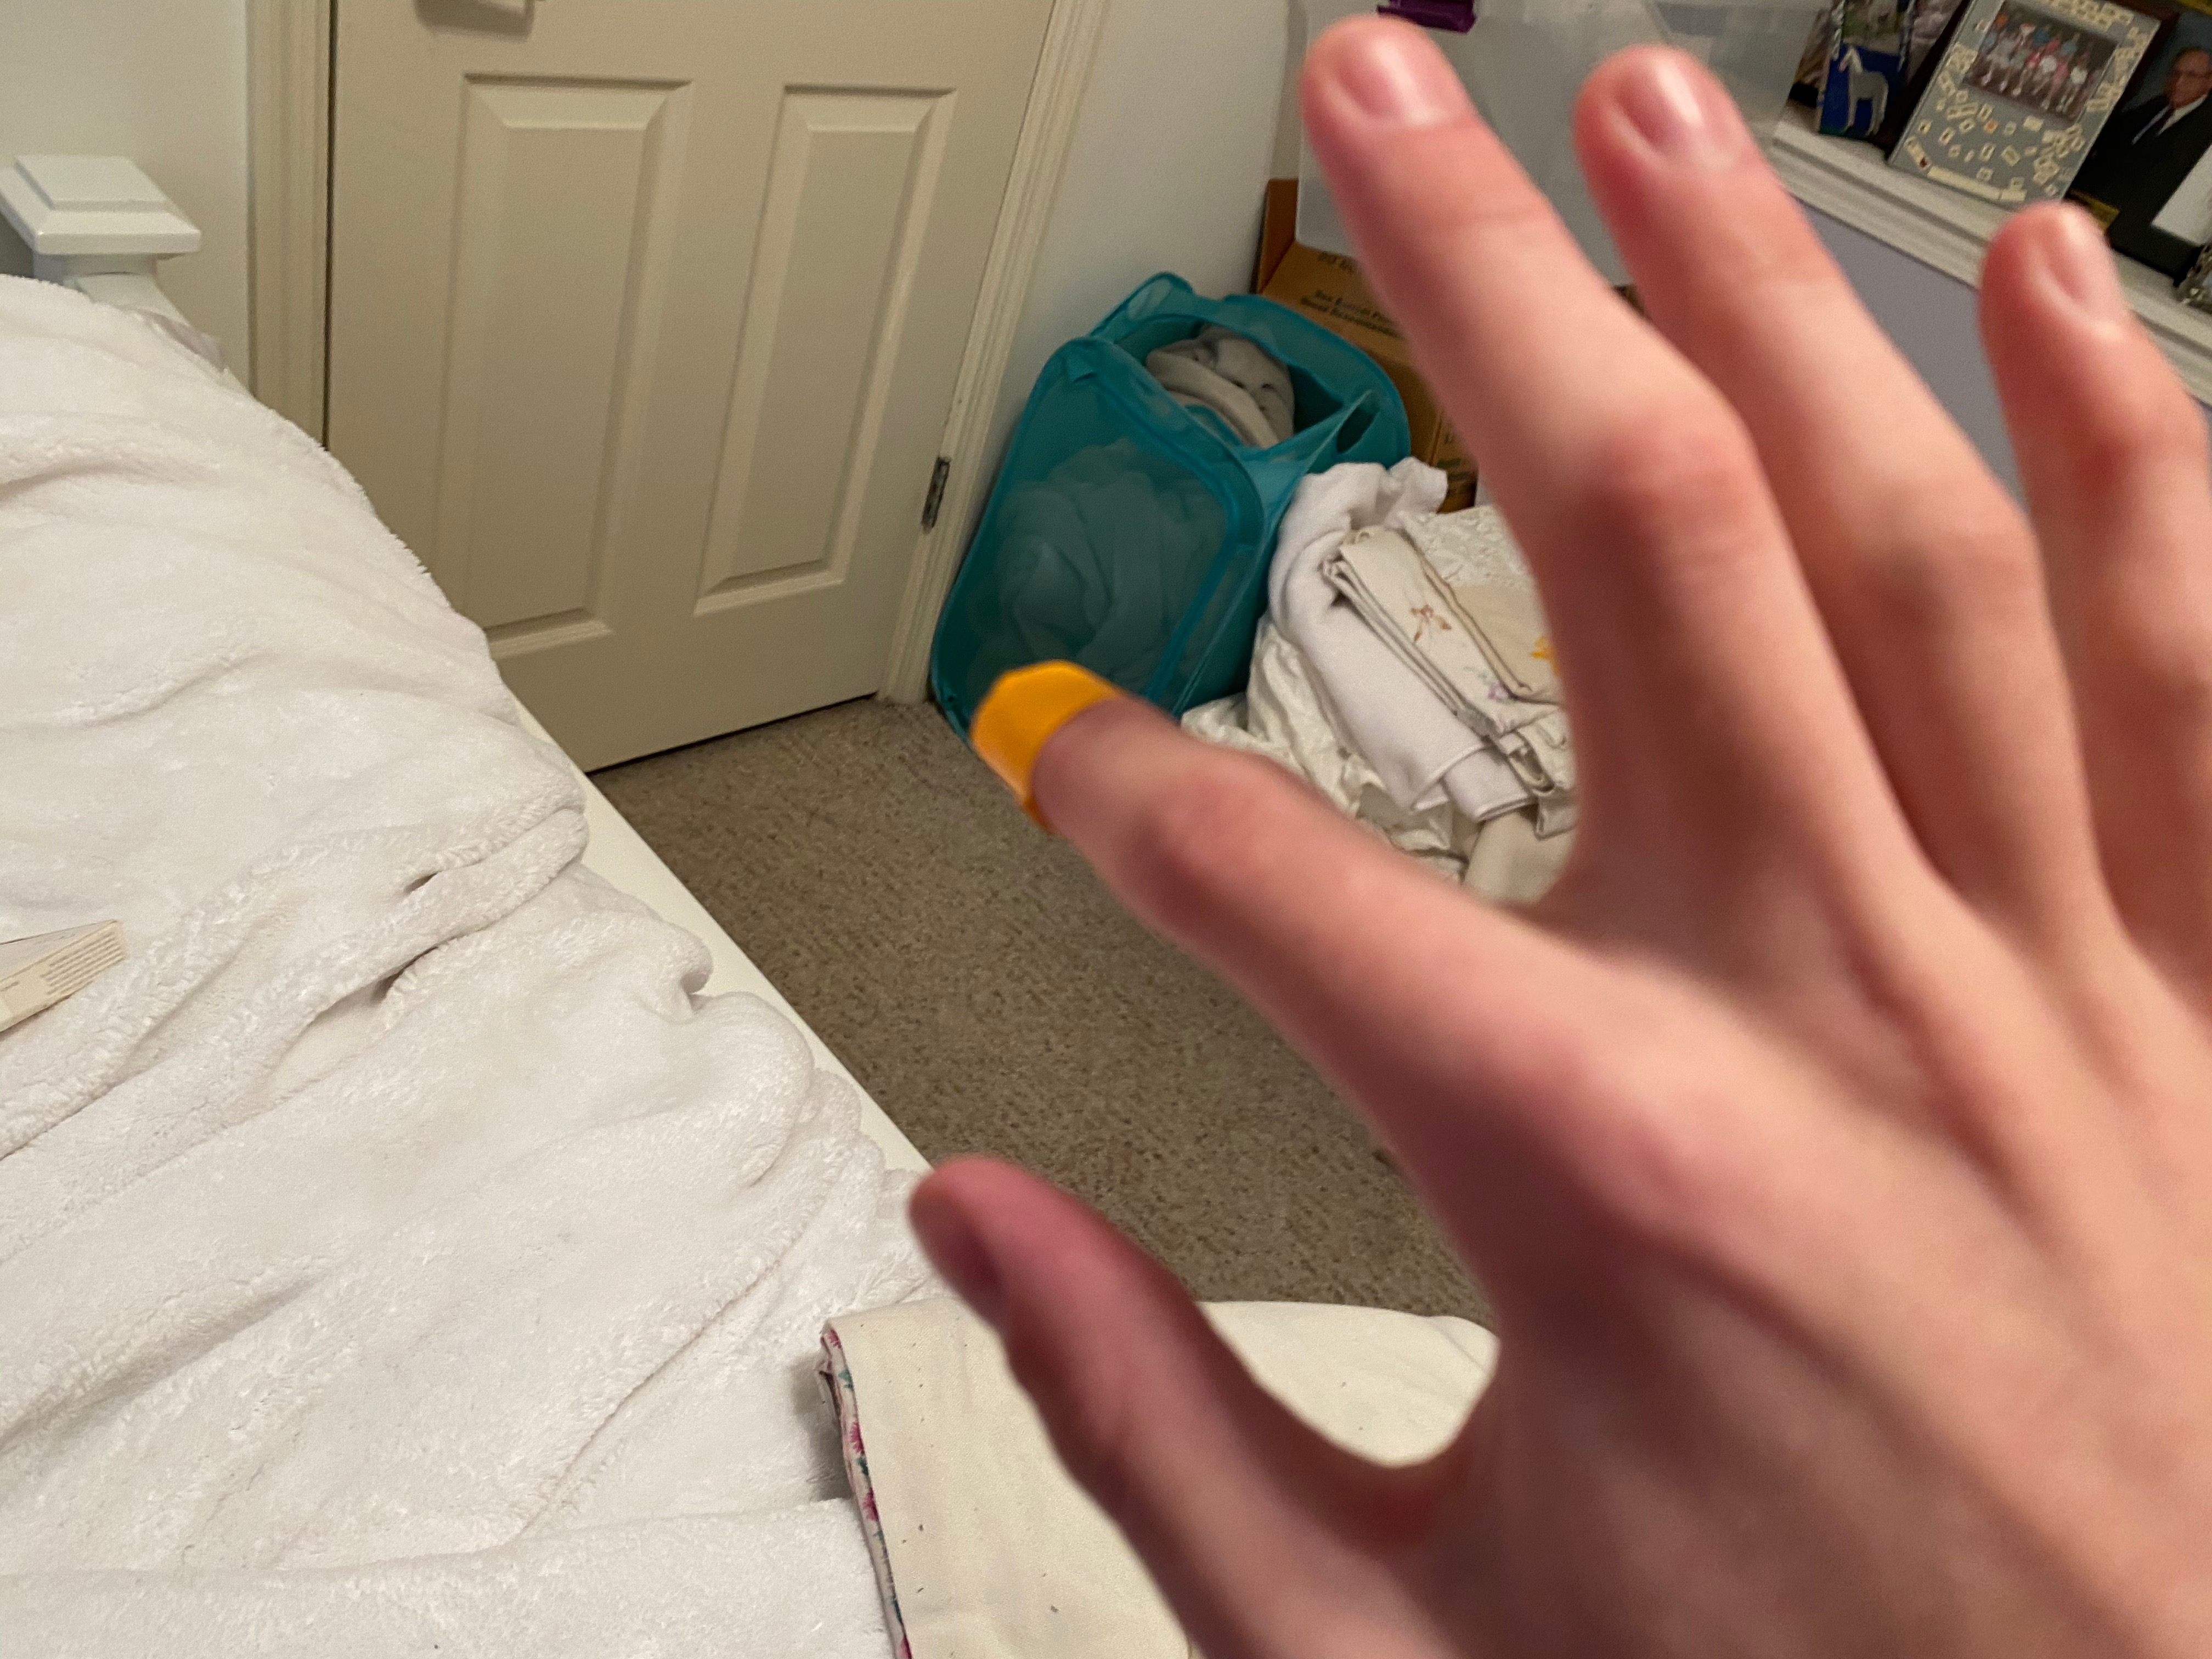fingertip: (961, 636, 1163, 847)
